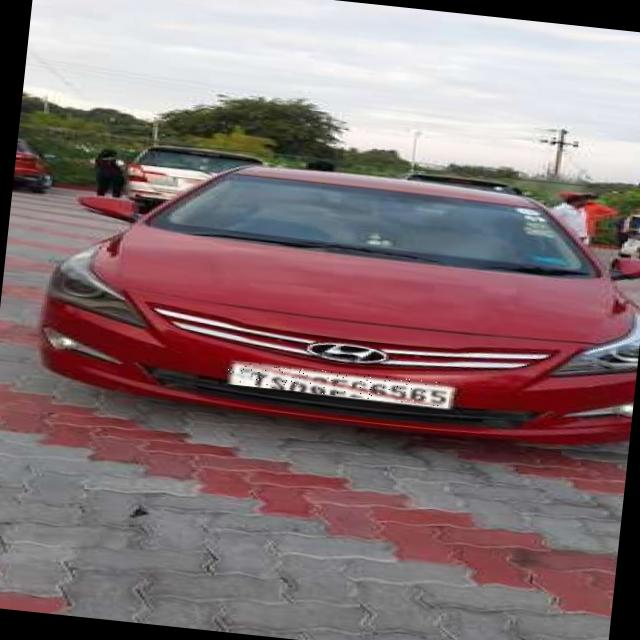Plate: (227, 361, 451, 408)
